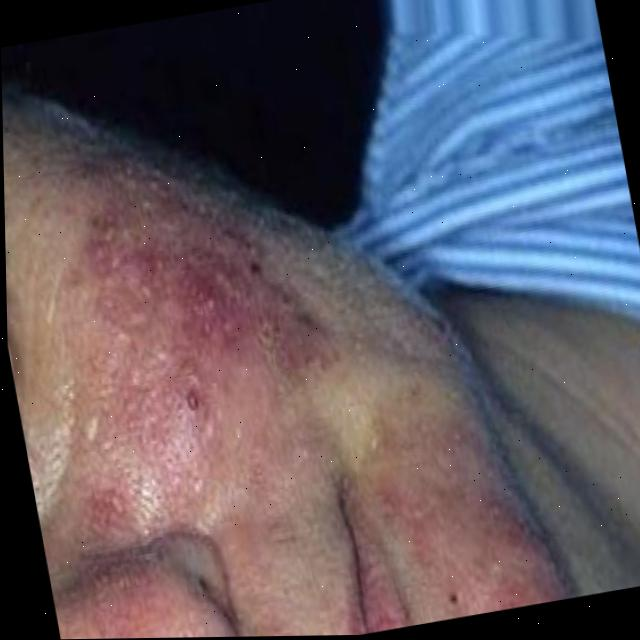Rosacea: (16, 172, 326, 516)
